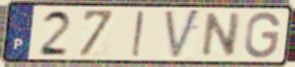2: (35, 8, 75, 57)
7: (80, 8, 117, 59)
G: (242, 10, 282, 60)
I: (130, 9, 146, 59)
N: (198, 11, 244, 59)
V: (163, 7, 203, 62)
